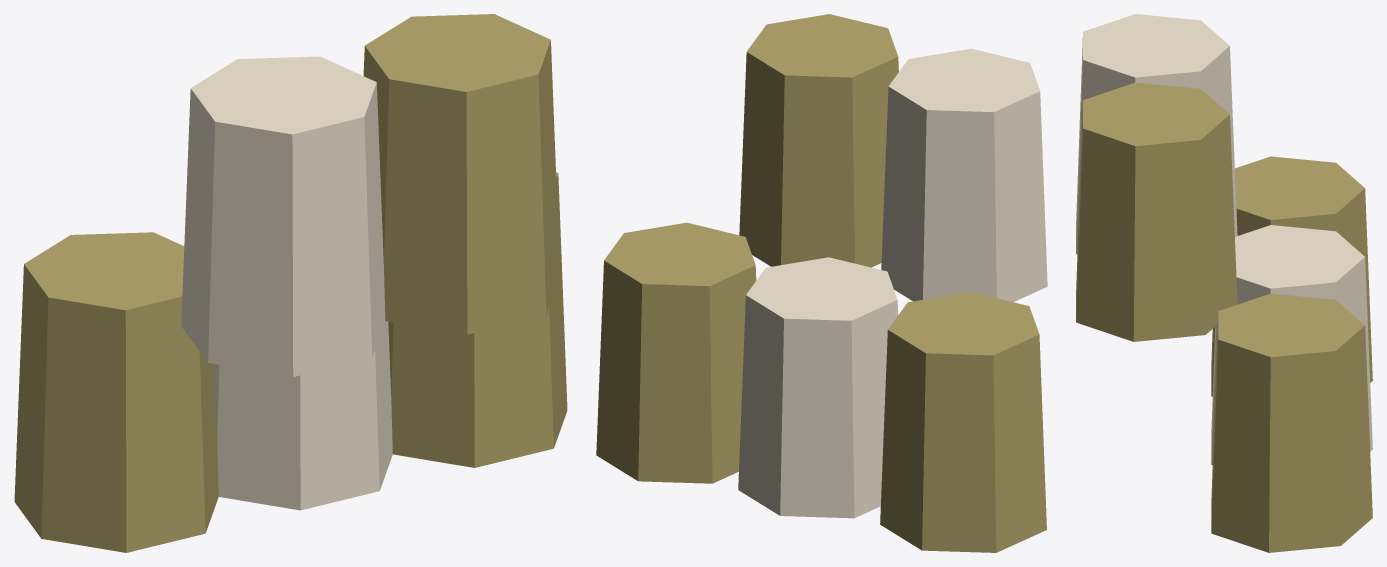
Rendered from prop_sacks.glb.
The picture shows the model from 3 angles, left to right: view 1: azimuth 30°, elevation 25°; view 2: azimuth 150°, elevation 25°; view 3: azimuth 270°, elevation 25°; orthographic projection. The views are drawn at different scales.
Parts seen in each view (by area): view 1: prop_sacks; view 2: prop_sacks; view 3: prop_sacks.
Boxes of the visible parts, <box> form: prop_sacks: <box>14,14,567,552</box>; prop_sacks: <box>596,14,1047,552</box>; prop_sacks: <box>1076,14,1372,552</box>.
Bounding box in the file's own units: 1.27 × 1.05 × 0.7682.
